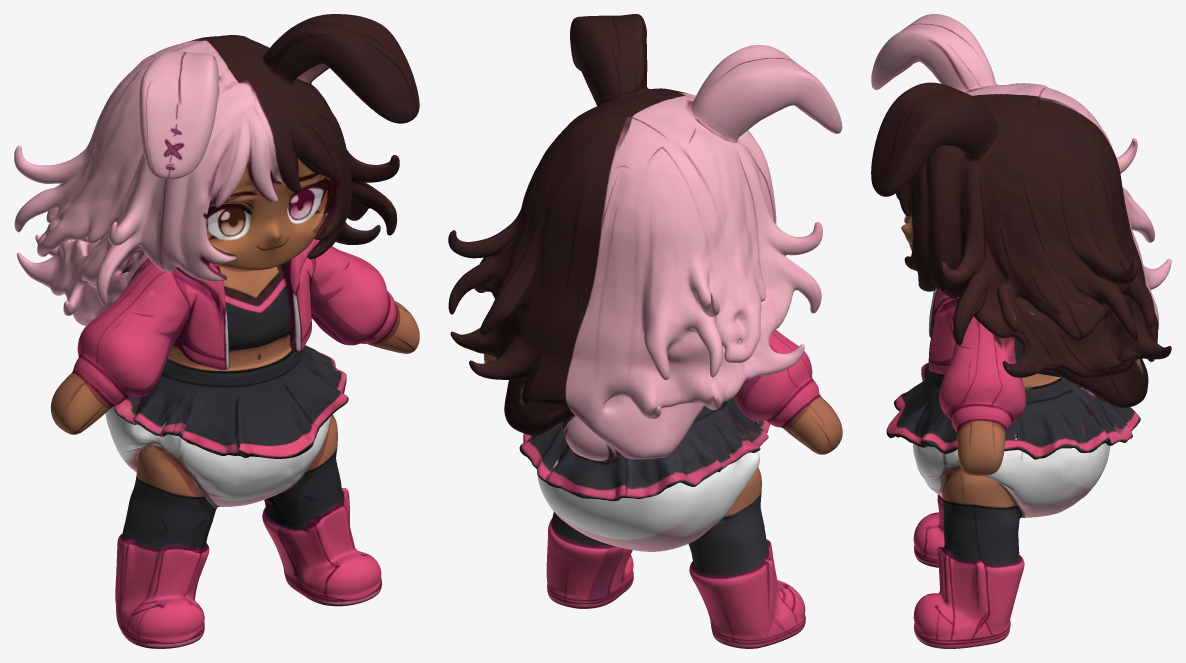
File: miabun.glb
3 renders of one model, left to right at view 1: azimuth 30°, elevation 25°; view 2: azimuth 150°, elevation 25°; view 3: azimuth 270°, elevation 25°, orthographic. The views are drawn at different scales.
Visible parts, largest first — view 1: temp_mesh.ply; view 2: temp_mesh.ply; view 3: temp_mesh.ply.
Boxes of the visible parts, bbox=[...] form: temp_mesh.ply: bbox=[14, 14, 419, 648]; temp_mesh.ply: bbox=[448, 14, 842, 648]; temp_mesh.ply: bbox=[871, 14, 1171, 648].
Bounding box in the file's own units: 4.05 × 6.25 × 3.18.
Materials: 1 (1 with a texture image).
